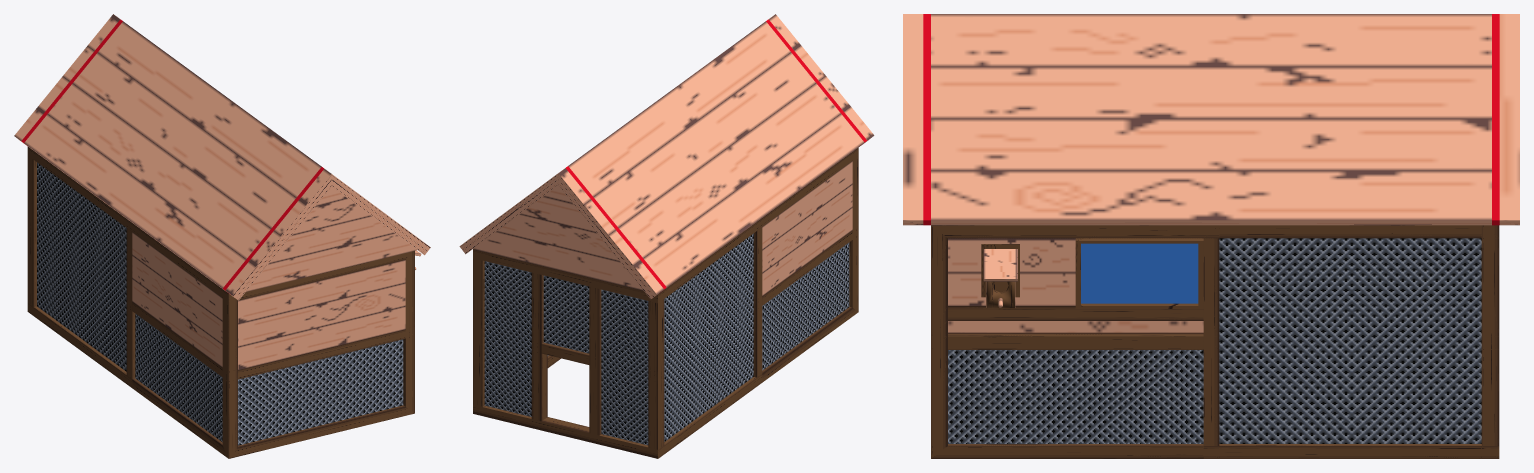
File: Casa Bony.fbx
3 views of the same model, side by side, from view 1: azimuth 30°, elevation 25°; view 2: azimuth 150°, elevation 25°; view 3: azimuth 270°, elevation 25° (orthographic). The views are drawn at different scales.
Parts seen in each view (by area): view 1: Casa Bony; view 2: Casa Bony; view 3: Casa Bony.
Boxes of the visible parts, <box> form: Casa Bony: <box>14,14,430,458</box>; Casa Bony: <box>459,14,874,458</box>; Casa Bony: <box>903,14,1519,458</box>.
Size of the model in its own units: 5707 by 9921 by 6996.
Materials: 6 (4 with a texture image).
